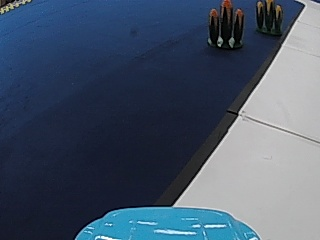corn: (205, 0, 246, 49), (252, 0, 285, 35)
